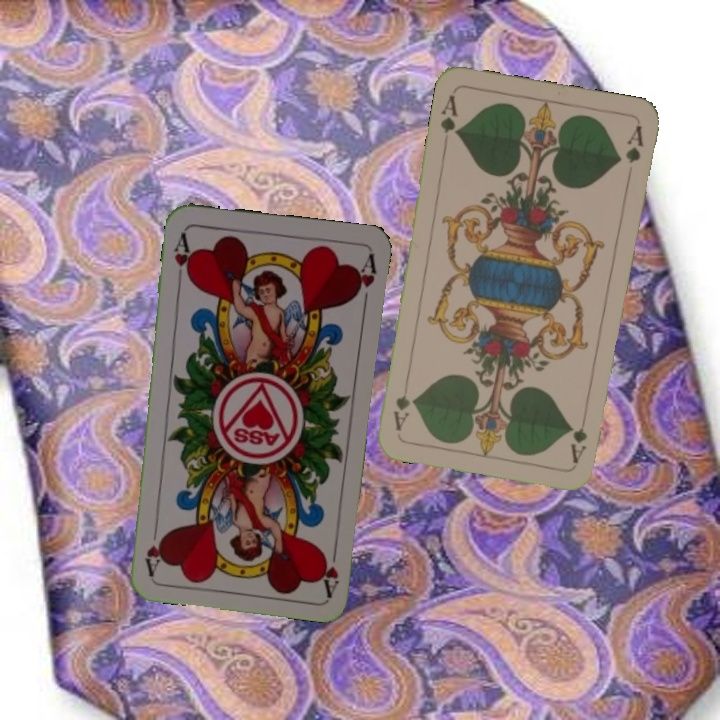GA: (567, 408, 590, 466), (436, 91, 462, 138)
HA: (316, 538, 342, 597), (170, 228, 196, 286)
